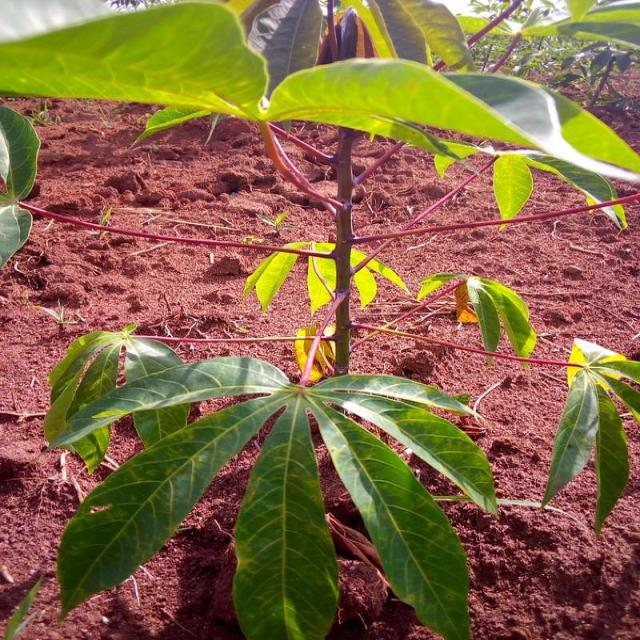cassava leaf: (0, 0, 638, 229), (45, 327, 498, 639), (231, 393, 339, 638), (540, 336, 638, 537)
